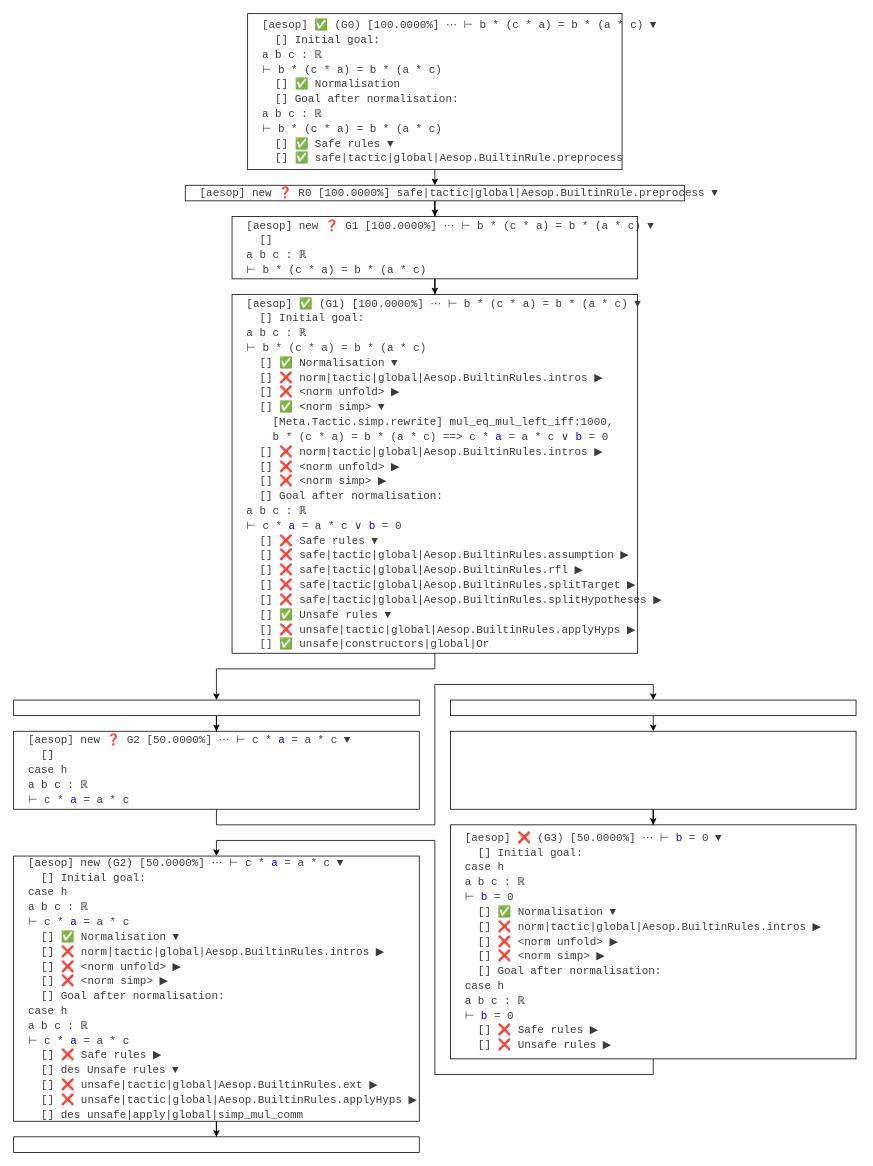
The diagram is 873 pixels wide and 1166 high, and some of its shapes have lost their labels. Here are the shapes that lost their labels. From the top down, the box of each, then its label:
(13, 699, 419, 716): [aesop] new ❓️ R1 [50.0000%] unsafe|constructors|global|Or ▼
(450, 699, 856, 716): [aesop] new ❓️ R2 [50.0000%] unsafe|constructors|global|Or ▼
(450, 730, 856, 809): [aesop] new ❓️ G3 [50.0000%] ⋯ ⊢ b = 0 ▼ [] case h a b c : ℝ ⊢ b = 0
(13, 1136, 419, 1152): [aesop] new des R3 [25.0000%] unsafe|apply|global|simp_mul_comm ▼
